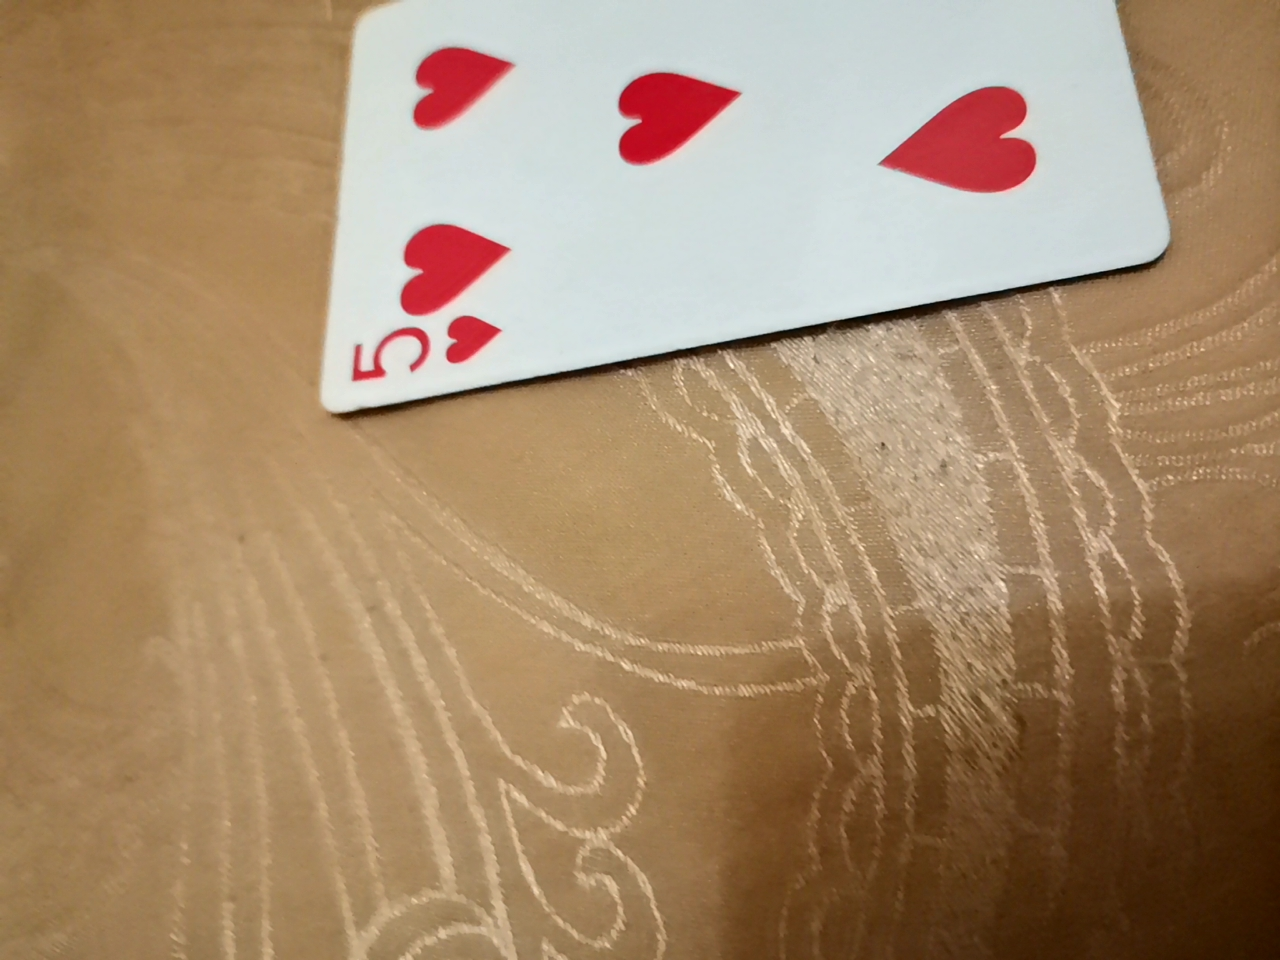hx 5: (263, 0, 1146, 426)
